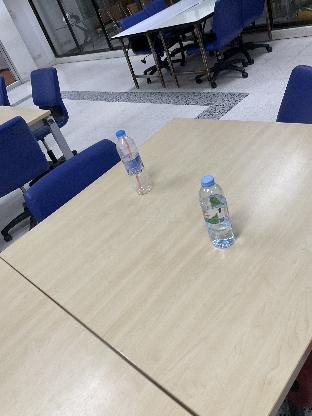Plastic Bottle: (198, 173, 238, 250), (114, 128, 154, 196)
